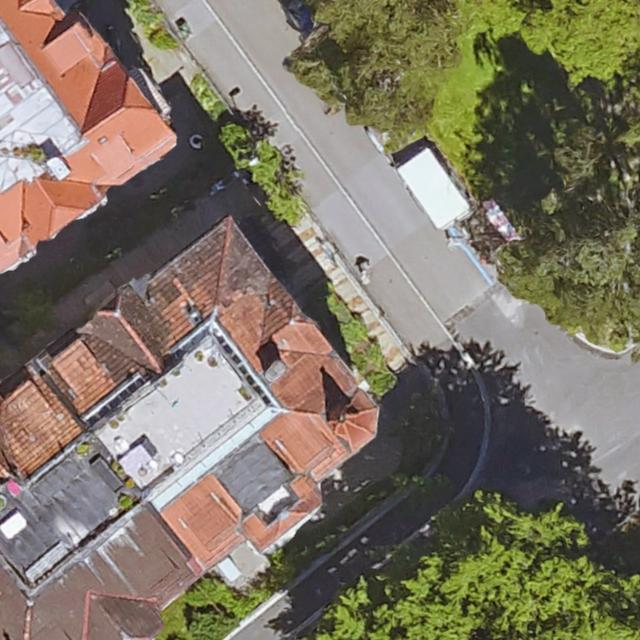tree: (332, 498, 640, 640), (499, 85, 640, 341), (292, 0, 453, 136), (458, 0, 640, 83)
